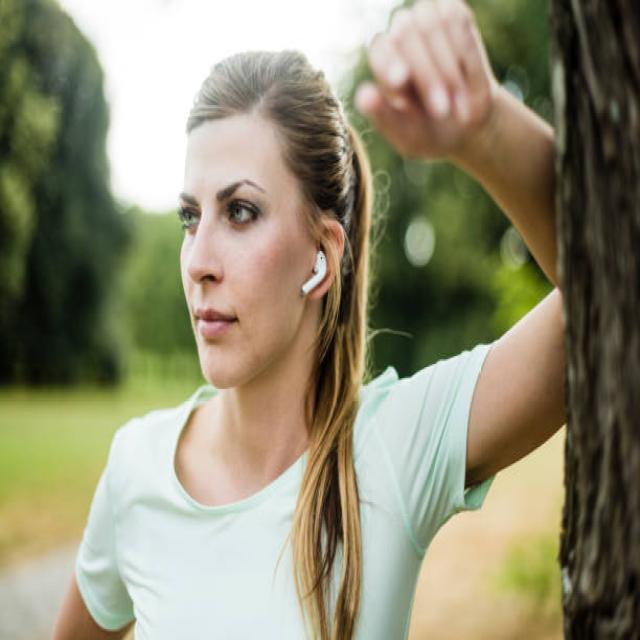airpods: (299, 248, 328, 297)
